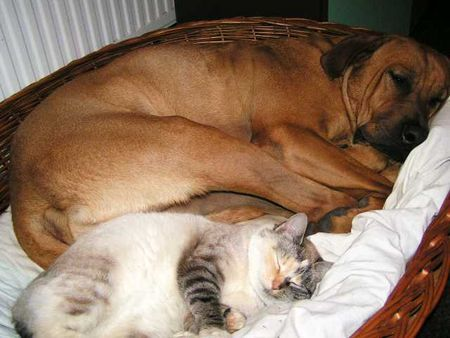tosa_inu: (9, 31, 448, 271)
